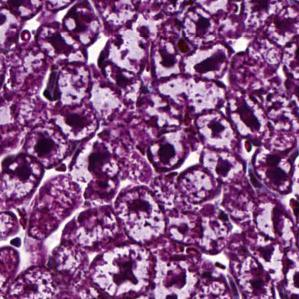inflammation: (114, 186, 167, 244), (56, 102, 103, 142), (146, 135, 187, 172)
